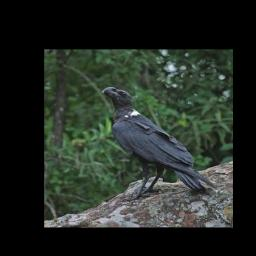Crow: (100, 85, 216, 202)
